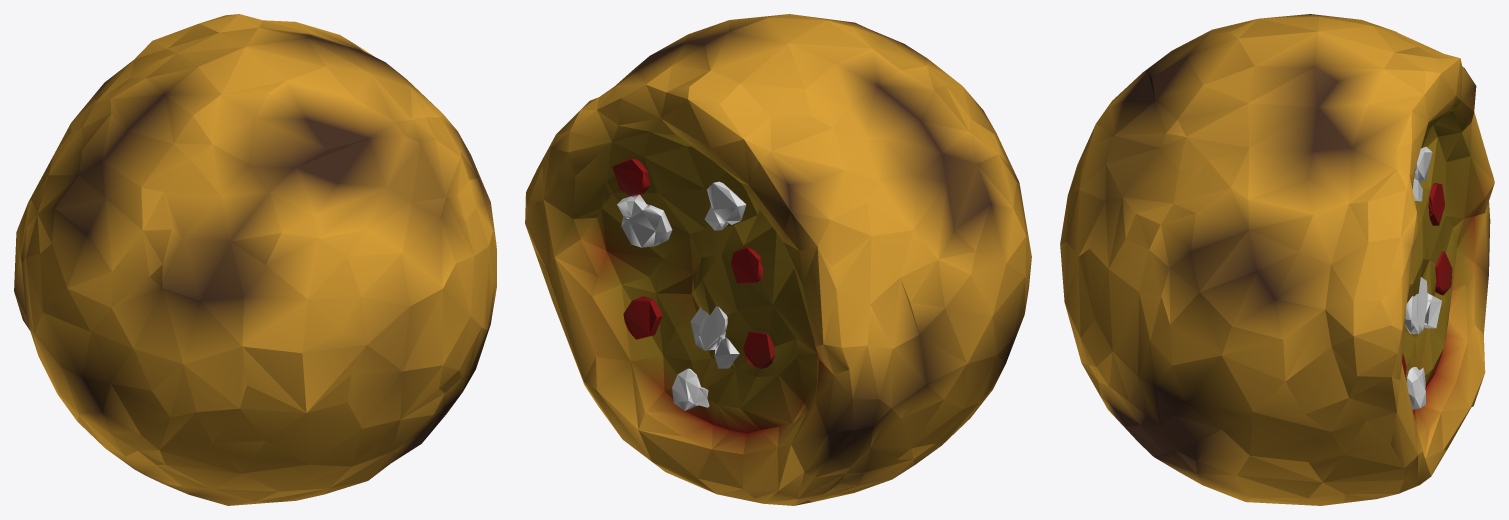
File: pizzaSun.glb
3 views of the same model, side by side, from view 1: azimuth 30°, elevation 25°; view 2: azimuth 150°, elevation 25°; view 3: azimuth 270°, elevation 25° (orthographic). The views are drawn at different scales.
Parts seen in each view (by area): view 1: pizza-sun; view 2: pizza-sun; view 3: pizza-sun.
Part boxes in pixels (left/top/right/bottom): pizza-sun: left=14, top=14, right=496, bottom=505; pizza-sun: left=525, top=14, right=1031, bottom=505; pizza-sun: left=1060, top=14, right=1494, bottom=505.
Bounding box in the file's own units: 17.18 × 16.5 × 14.5.
